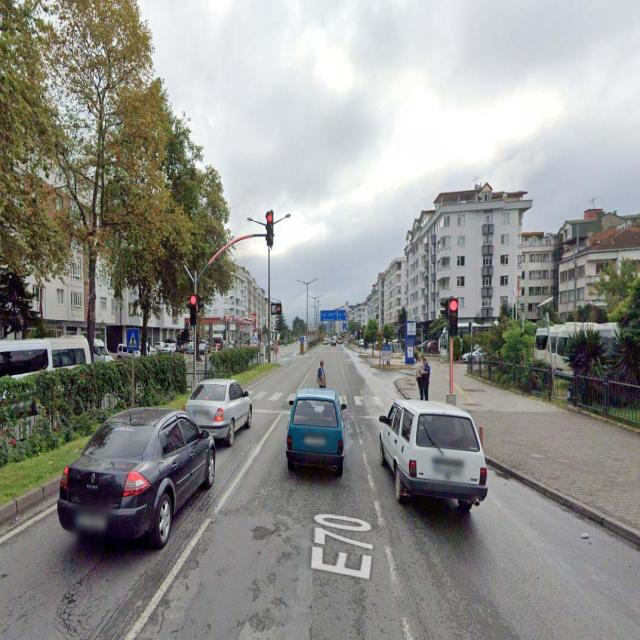kirmizi: (448, 297, 459, 337), (266, 212, 274, 243), (189, 296, 197, 326)
